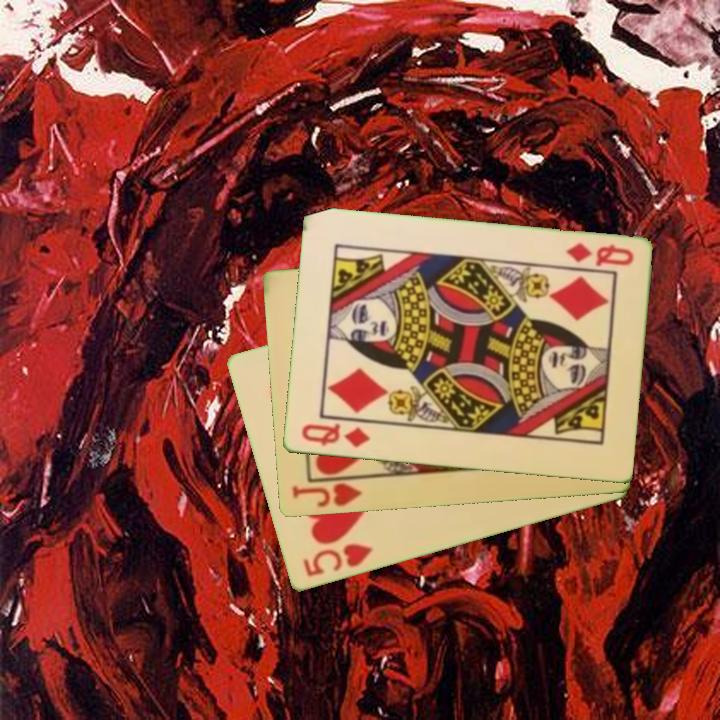5h: (299, 540, 376, 580)
Jh: (288, 480, 364, 511)
Qd: (297, 420, 373, 451), (562, 240, 636, 270)
